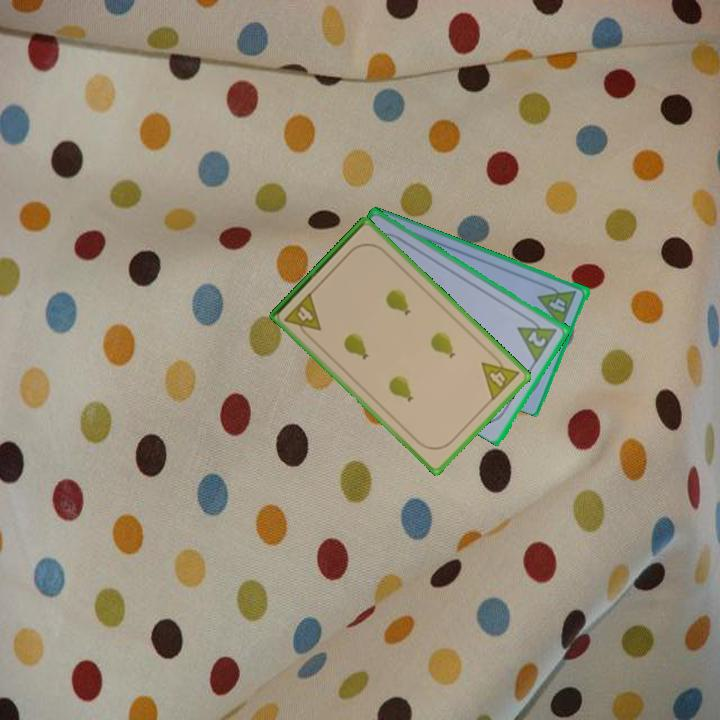2p: (524, 327, 550, 350)
4p: (478, 349, 523, 404), (281, 288, 324, 342), (535, 280, 580, 329)
